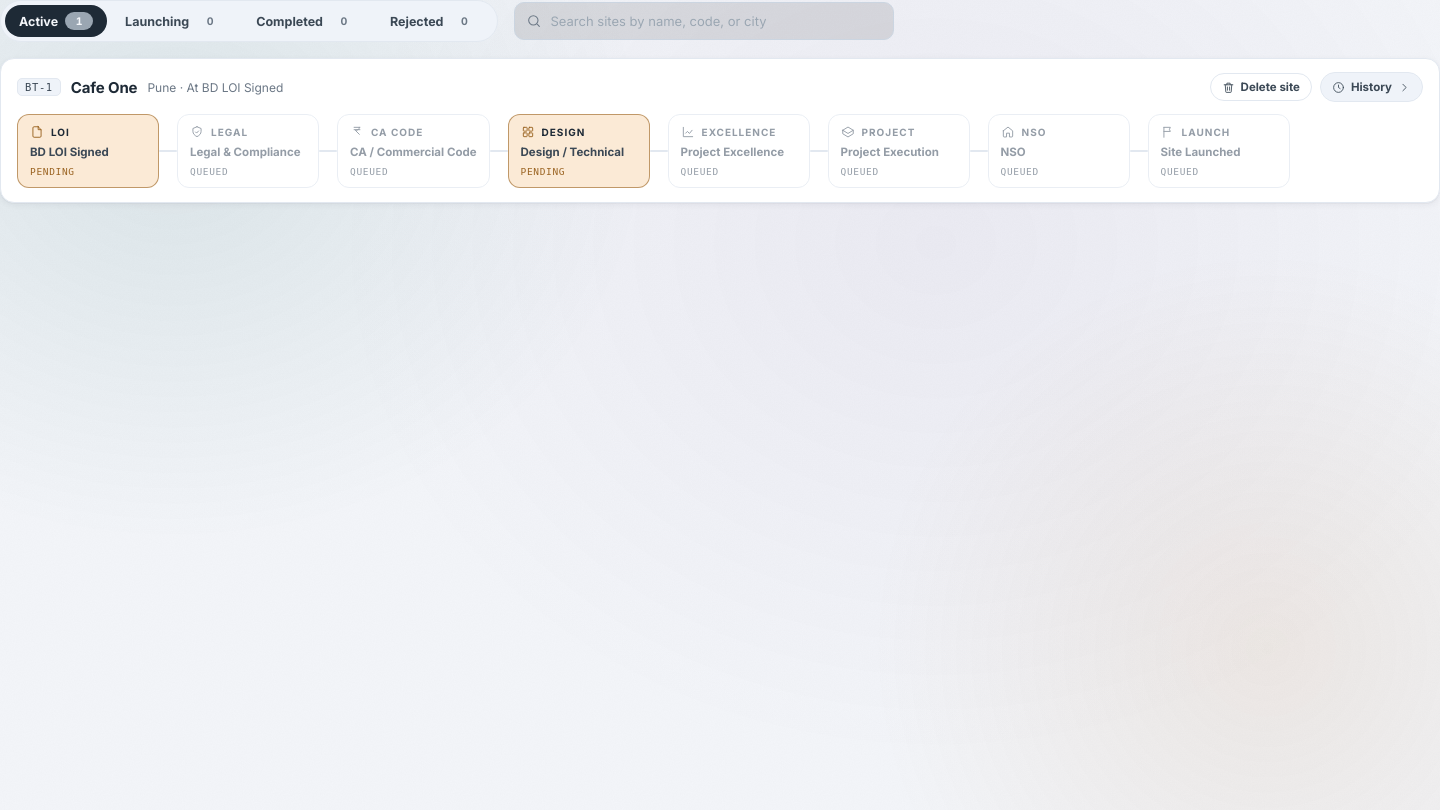
Test: performing an undo › re-reads both lists so the consumed snapshot disappears
Click the text "Cafe One". click: (104, 87)
box: x1=71 y1=78 x2=137 y2=96
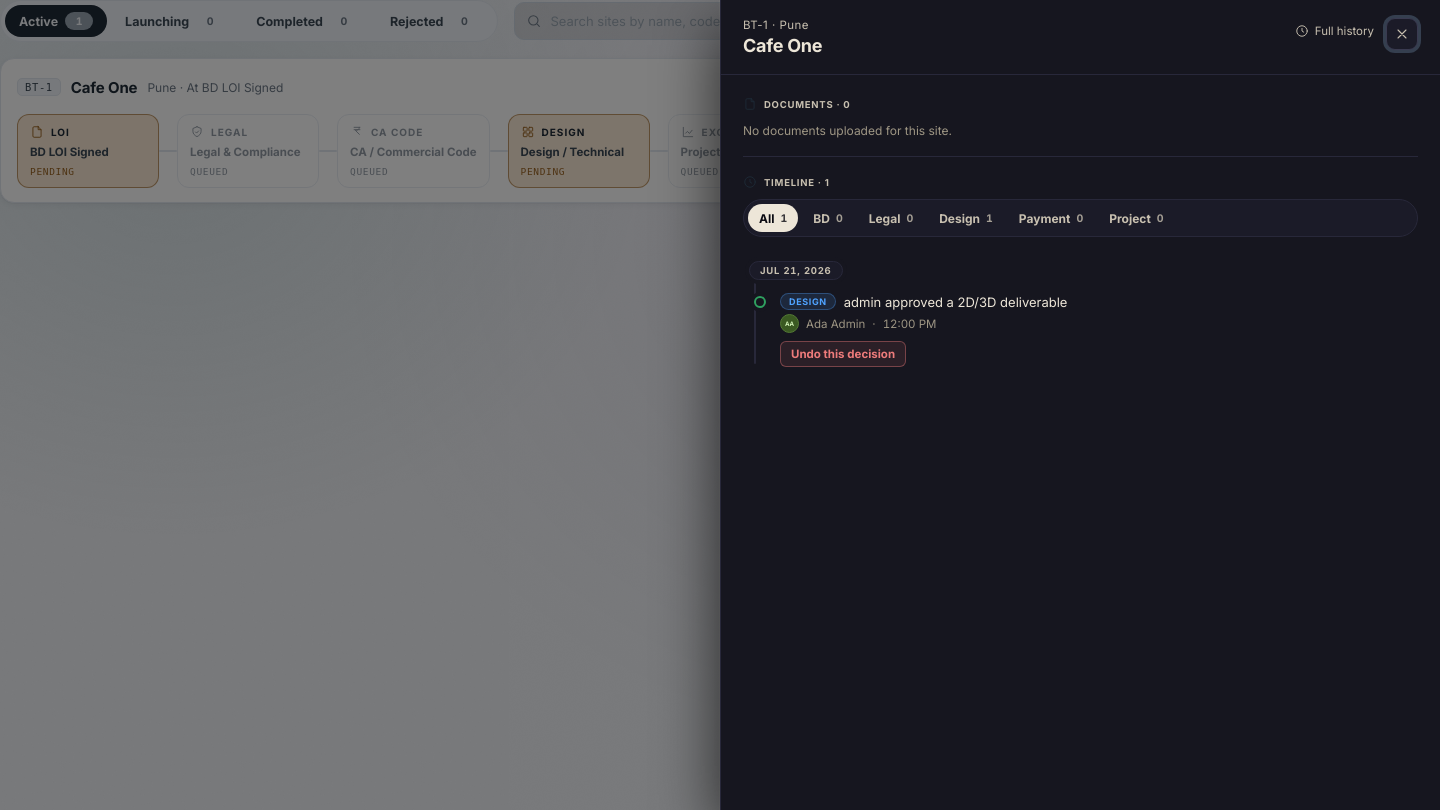
Expected: the button "Undo this decision" is shown
Click the button "Undo this decision". click: (843, 354)
box: x1=780 y1=341 x2=906 y2=367
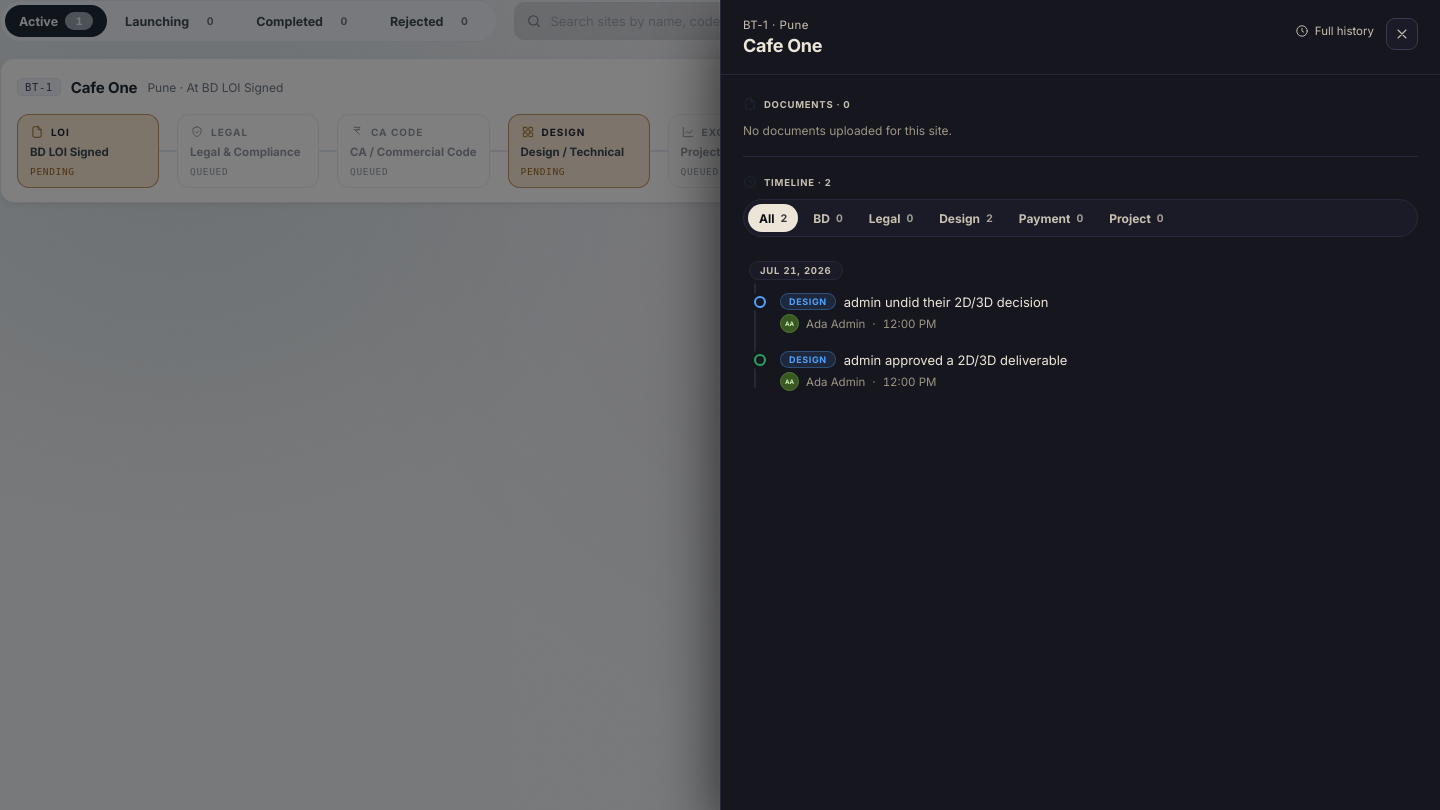
Expected: the button "Undo this decision" is gone
